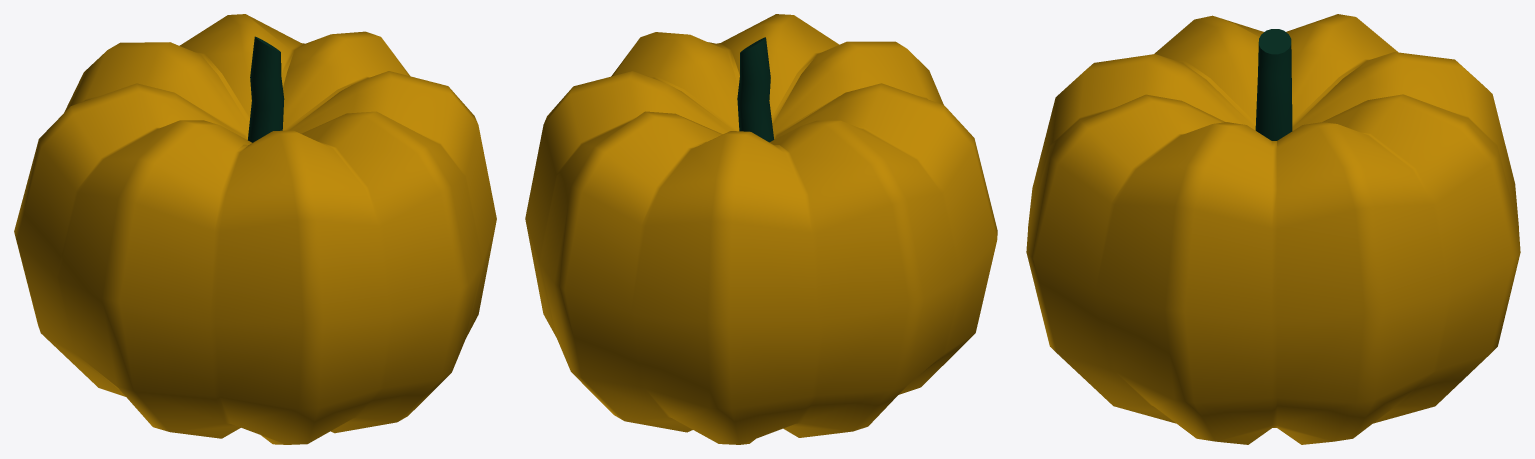
The model's file is Pumpkin03.fbx.
3 renders of one model, left to right at view 1: azimuth 30°, elevation 25°; view 2: azimuth 150°, elevation 25°; view 3: azimuth 270°, elevation 25°, orthographic. The views are drawn at different scales.
Parts seen in each view (by area): view 1: Pumpkins3_low; view 2: Pumpkins3_low; view 3: Pumpkins3_low.
Boxes of the visible parts, <box> form: Pumpkins3_low: <box>14,14,496,444</box>; Pumpkins3_low: <box>525,14,997,444</box>; Pumpkins3_low: <box>1026,14,1520,444</box>.
Bounding box in the file's own units: 2.22 × 2 × 2.38.
